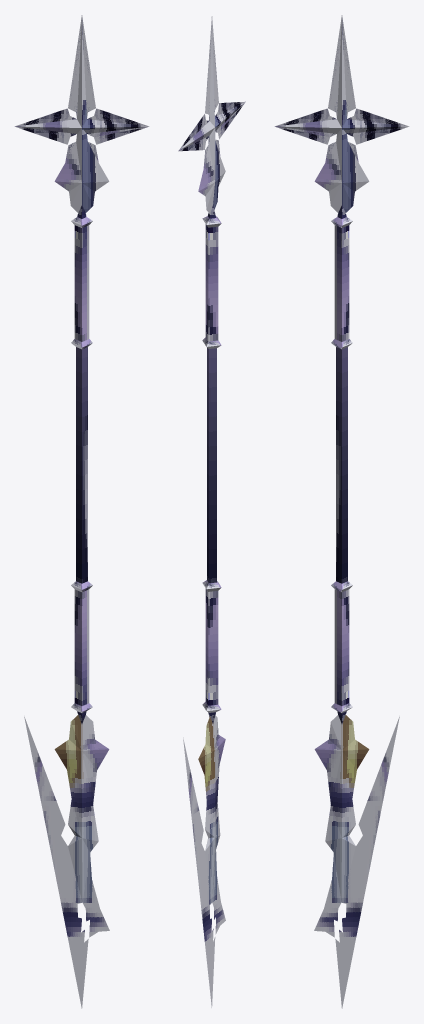
The model's file is lindworm.obj.
3 renders of one model, left to right at view 1: azimuth 90°, elevation 25°; view 2: azimuth 150°, elevation 25°; view 3: azimuth 270°, elevation 25°, orthographic.
Size of the model in its own units: 7.55 by 374 by 46.09.
